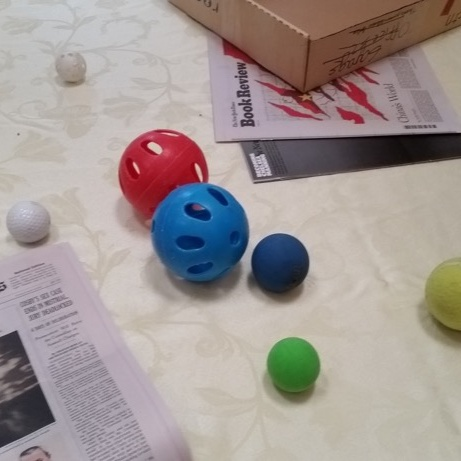ball: (149, 180, 251, 285), (115, 124, 212, 216)
